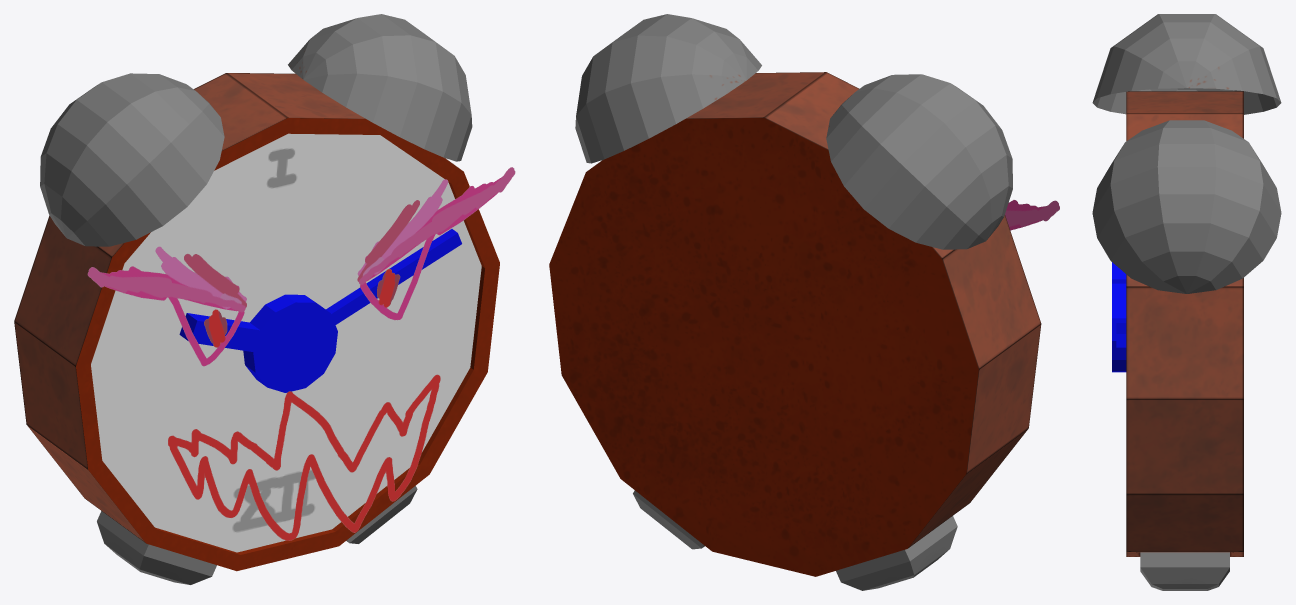
The model's file is EvilReveil.fbx.
3 renders of one model, left to right at view 1: azimuth 30°, elevation 25°; view 2: azimuth 150°, elevation 25°; view 3: azimuth 270°, elevation 25°, orthographic. The views are drawn at different scales.
Parts seen in each view (by area): view 1: Circle, Sphere, Plane.001, Circle.001, Plane; view 2: Circle, Sphere, Plane.001; view 3: Circle, Sphere, Circle.001.
Boxes of the visible parts, bbox=[...] form: Circle: bbox=[14, 73, 499, 584]; Sphere: bbox=[40, 14, 472, 246]; Plane.001: bbox=[87, 167, 515, 366]; Circle.001: bbox=[179, 229, 461, 392]; Plane: bbox=[168, 374, 440, 540]; Circle: bbox=[549, 72, 1041, 590]; Sphere: bbox=[575, 14, 1012, 249]; Plane.001: bbox=[1005, 200, 1059, 230]; Circle: bbox=[1126, 91, 1243, 590]; Sphere: bbox=[1092, 14, 1281, 293]; Circle.001: bbox=[1112, 262, 1126, 372].
Size of the model in its own units: 204 by 222 by 80.42.
2 materials, 1 textured.
